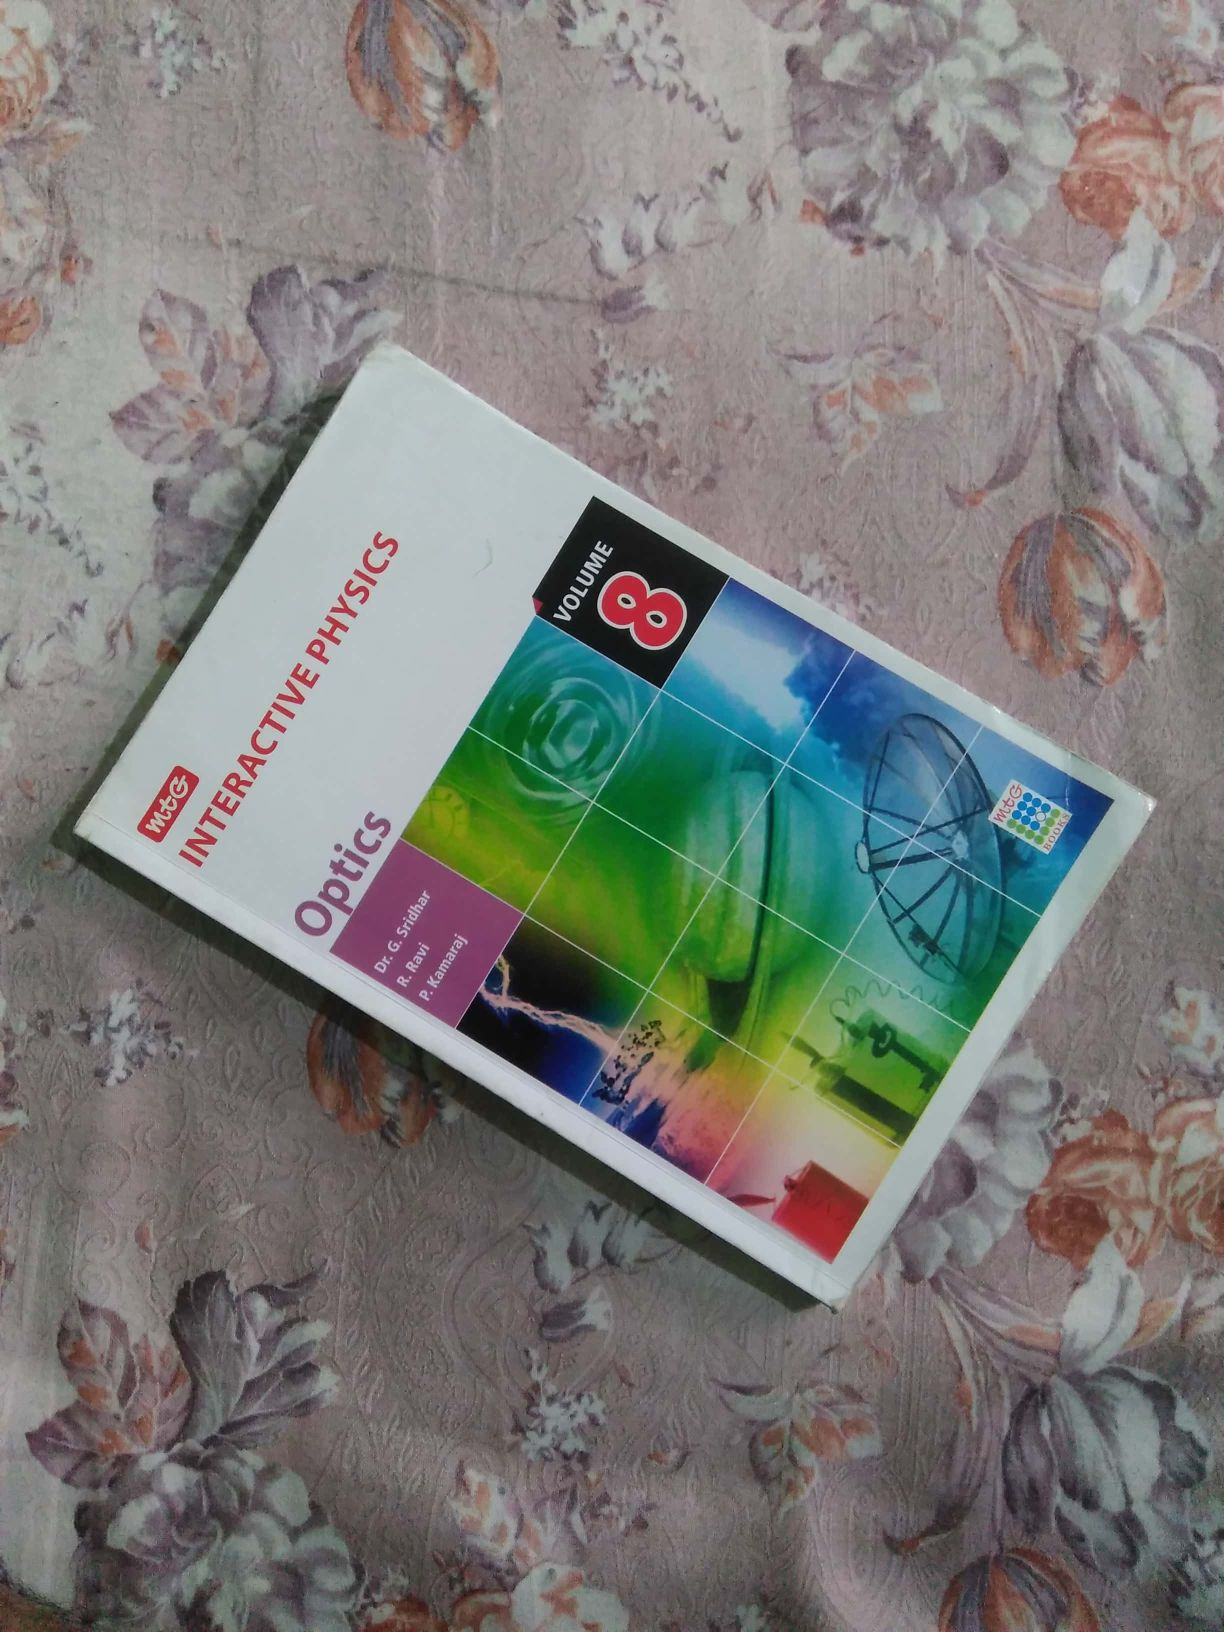optics: (51, 321, 1178, 1336)
